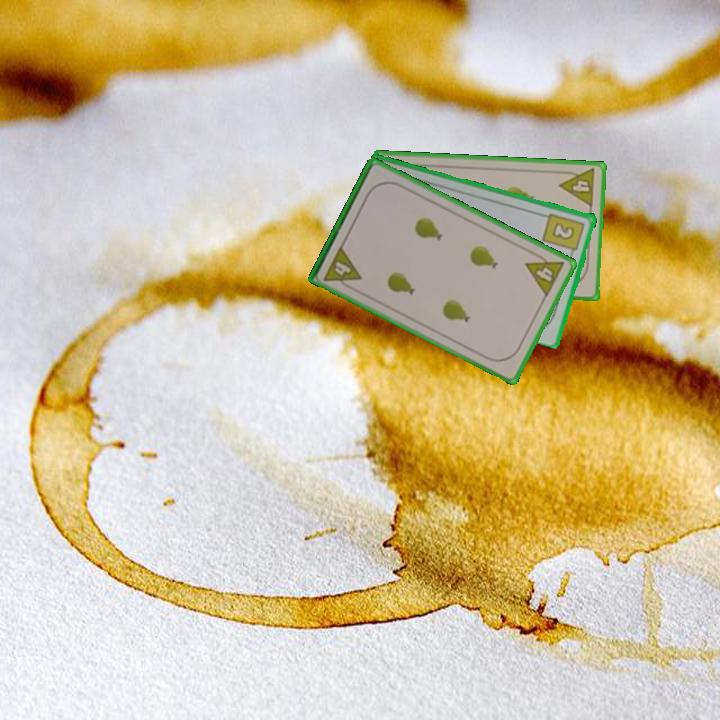2b: (540, 210, 588, 259)
4p: (522, 247, 568, 300), (320, 242, 364, 293), (556, 165, 598, 210)
